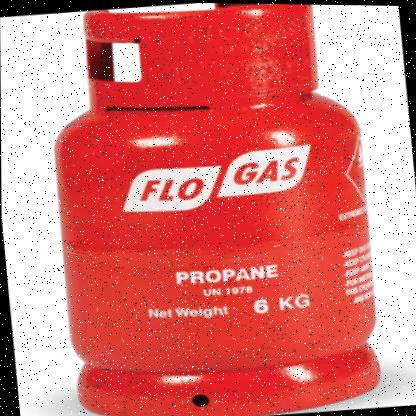gas-tank: (18, 0, 402, 415)
